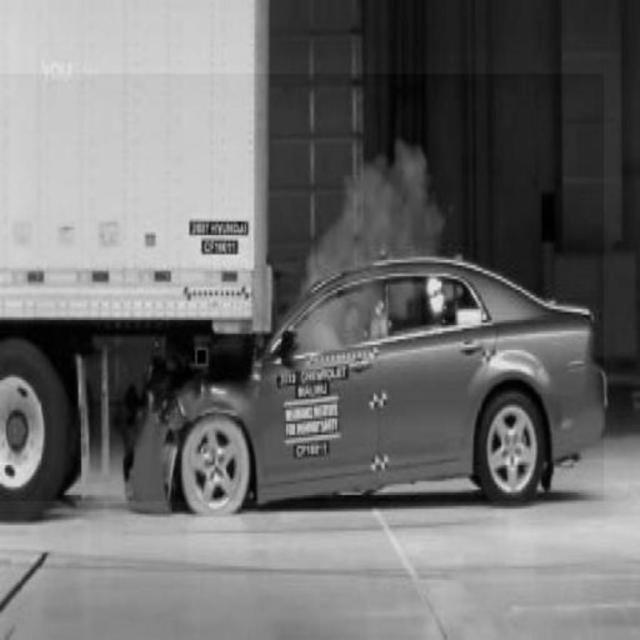accident: (0, 74, 604, 502)
